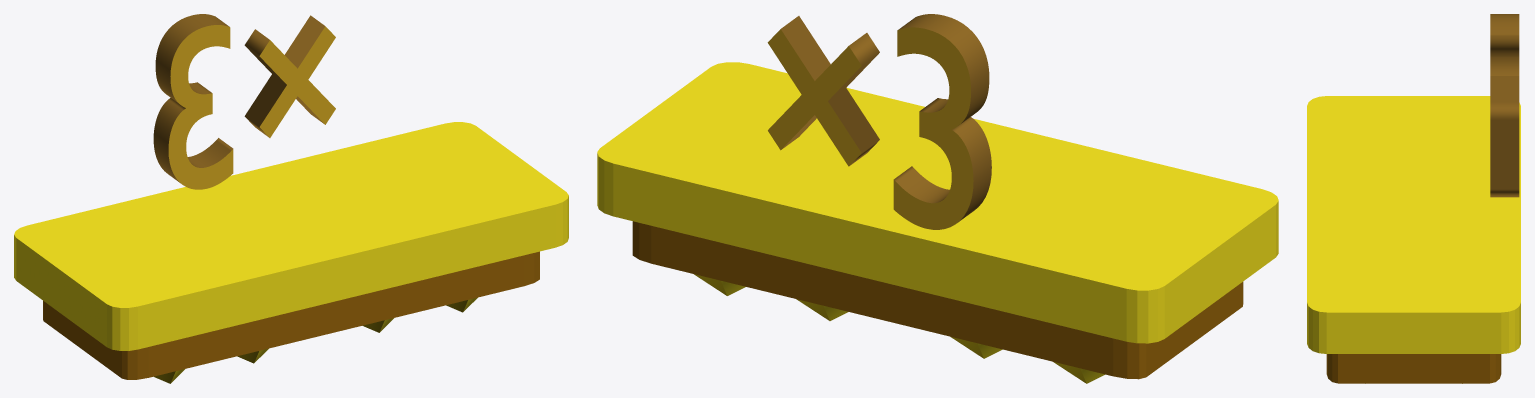
File: Floor_Gold.obj
3 renders of one model, left to right at view 1: azimuth 30°, elevation 25°; view 2: azimuth 150°, elevation 25°; view 3: azimuth 270°, elevation 25°, orthographic. The views are drawn at different scales.
Parts seen in each view (by area): view 1: テキスト; view 2: テキスト; view 3: テキスト.
Boxes of the visible parts, left/top/right/bottom form: テキスト: left=14, top=14, right=568, bottom=383; テキスト: left=597, top=14, right=1278, bottom=383; テキスト: left=1307, top=14, right=1520, bottom=383.
Size of the model in its own units: 14.11 by 8.38 by 5.89.
1 material, 1 textured.
